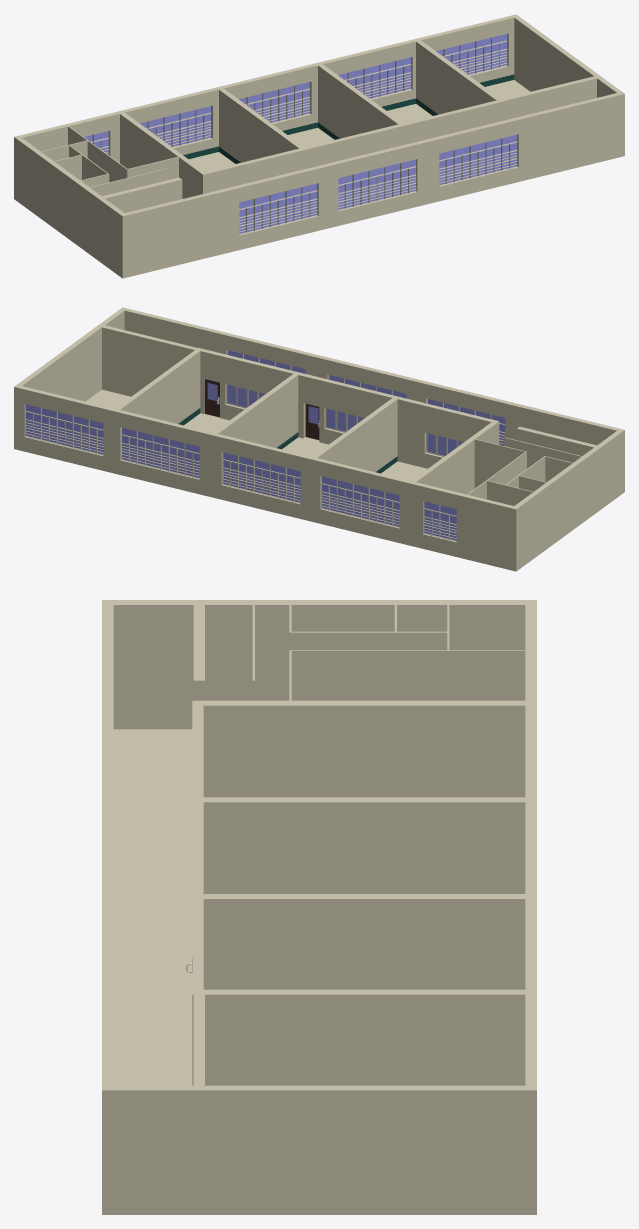
The model's file is 3RD_FLR_ELEM.fbx.
3 renders of one model, top to bottom at view 1: azimuth 30°, elevation 25°; view 2: azimuth 150°, elevation 25°; view 3: azimuth 270°, elevation 25°, orthographic. The views are drawn at different scales.
Visible parts, largest first — view 1: Wall.029, Wall.026, Wall.030, Wall.031, Wall.039, Wall.038, Wall.037, Wall.036, WindowPanes.002, WindowPanes, WindowPanes.001, Wall.032 (+22 smaller); view 2: Wall.026, Wall.029, Wall.030, Wall.040, Wall.031, Wall.032, Wall.039, Wall.038, Wall.037, Wall.034, Wall.035, Wall.036 (+25 smaller); view 3: Wall.031, Wall.036, Wall.037, Wall.039, Wall.038, Wall.030, Floor_Plane, Wall.043, StairPlane(Remove if gonna put stairs), Wall.026, Wall.029, Wall.044 (+5 smaller).
Part boxes in pixels (left/top/right/bottom): Wall.029: left=120, top=92, right=624, bottom=278; Wall.026: left=14, top=14, right=518, bottom=200; Wall.030: left=17, top=138, right=124, bottom=276; Wall.031: left=514, top=16, right=621, bottom=97; Wall.039: left=416, top=40, right=504, bottom=121; Wall.038: left=318, top=64, right=405, bottom=145; Wall.037: left=219, top=88, right=306, bottom=169; Wall.036: left=120, top=112, right=207, bottom=198; WindowPanes.002: left=439, top=134, right=516, bottom=184; WindowPanes: left=239, top=183, right=316, bottom=233; WindowPanes.001: left=338, top=159, right=415, bottom=209; Wall.032: left=205, top=148, right=302, bottom=192; Wall.026: left=14, top=385, right=519, bottom=571; Wall.029: left=120, top=307, right=624, bottom=493; Wall.030: left=514, top=431, right=621, bottom=568; Wall.040: left=102, top=325, right=197, bottom=396; Wall.031: left=17, top=309, right=124, bottom=401; Wall.032: left=397, top=397, right=493, bottom=468; Wall.039: left=115, top=347, right=202, bottom=425; Wall.038: left=213, top=371, right=300, bottom=449; Wall.037: left=312, top=396, right=399, bottom=473; Wall.034: left=298, top=373, right=394, bottom=444; Wall.035: left=200, top=349, right=295, bottom=420; Wall.036: left=411, top=420, right=499, bottom=494; Wall.031: left=113, top=1085, right=525, bottom=1214; Wall.036: left=192, top=700, right=525, bottom=797; Wall.037: left=192, top=797, right=525, bottom=893; Wall.039: left=192, top=989, right=525, bottom=1085; Wall.038: left=192, top=894, right=525, bottom=989; Wall.030: left=113, top=600, right=525, bottom=729; Floor_Plane: left=113, top=828, right=192, bottom=1085; Wall.043: left=289, top=650, right=525, bottom=700; StairPlane(Remove if gonna put stairs): left=113, top=729, right=192, bottom=827; Wall.026: left=525, top=600, right=536, bottom=1214; Wall.029: left=102, top=600, right=113, bottom=1214; Wall.044: left=289, top=631, right=447, bottom=650.
Size of the model in its own units: 2535 by 300 by 950.
4 materials, 2 textured.
